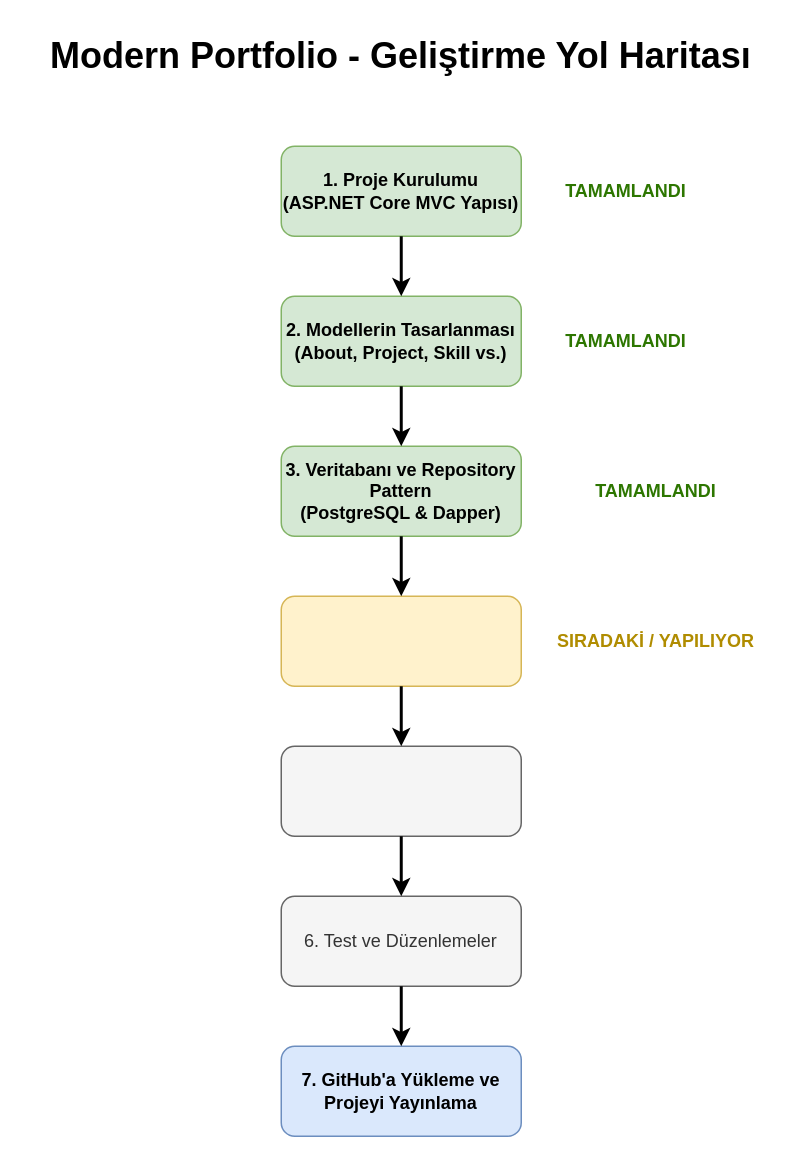
Image size: 801x1163. Some labels were removed from this diagram. The centre of each missing label's shape, as x and y in pixels:
4. Controller'ların Yazılması (İş Mantığı ve Yönlendirmeler): pixel 400 640
5. Arayüz (View) Tasarımı (HTML/CSS/JS Entegrasyonu): pixel 400 790
